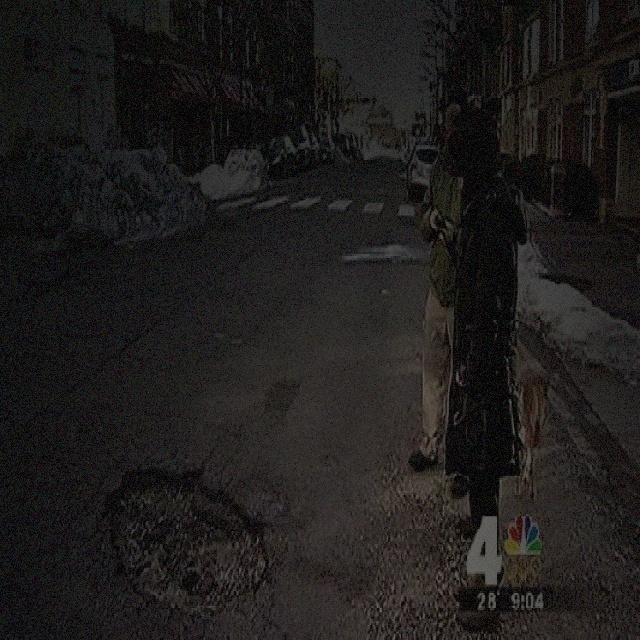pothole: (101, 459, 270, 610)
